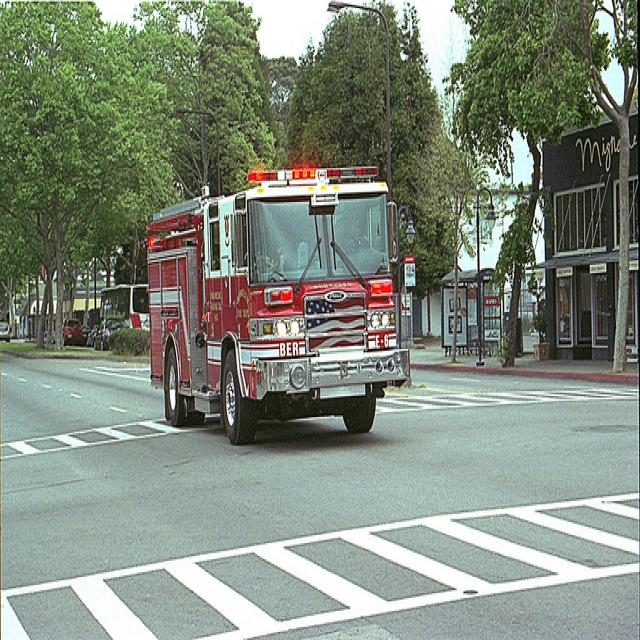Vehicle: (146, 165, 409, 442), (98, 283, 150, 333), (94, 318, 126, 350), (62, 317, 84, 344), (0, 322, 10, 343)
